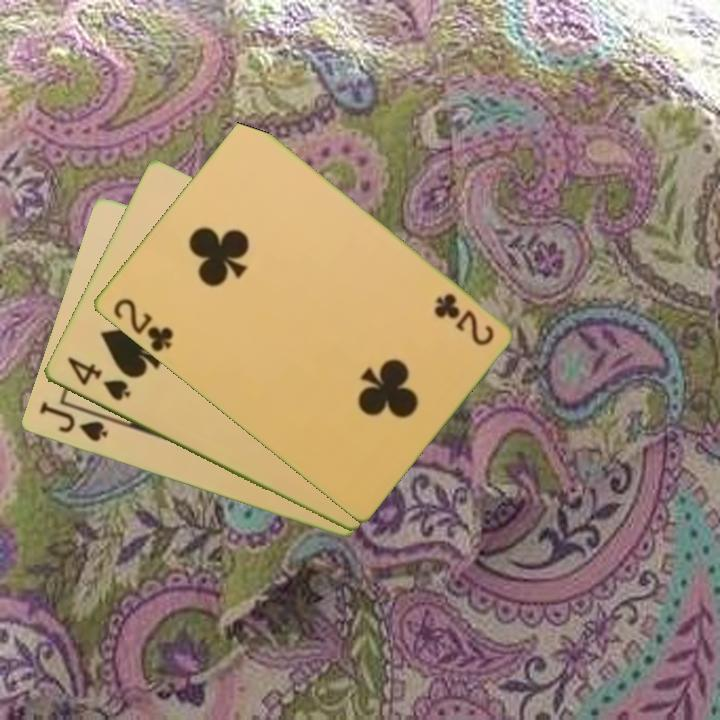2c: (109, 294, 176, 355), (429, 289, 497, 349)
4s: (62, 353, 133, 404)
Js: (35, 398, 110, 445)
